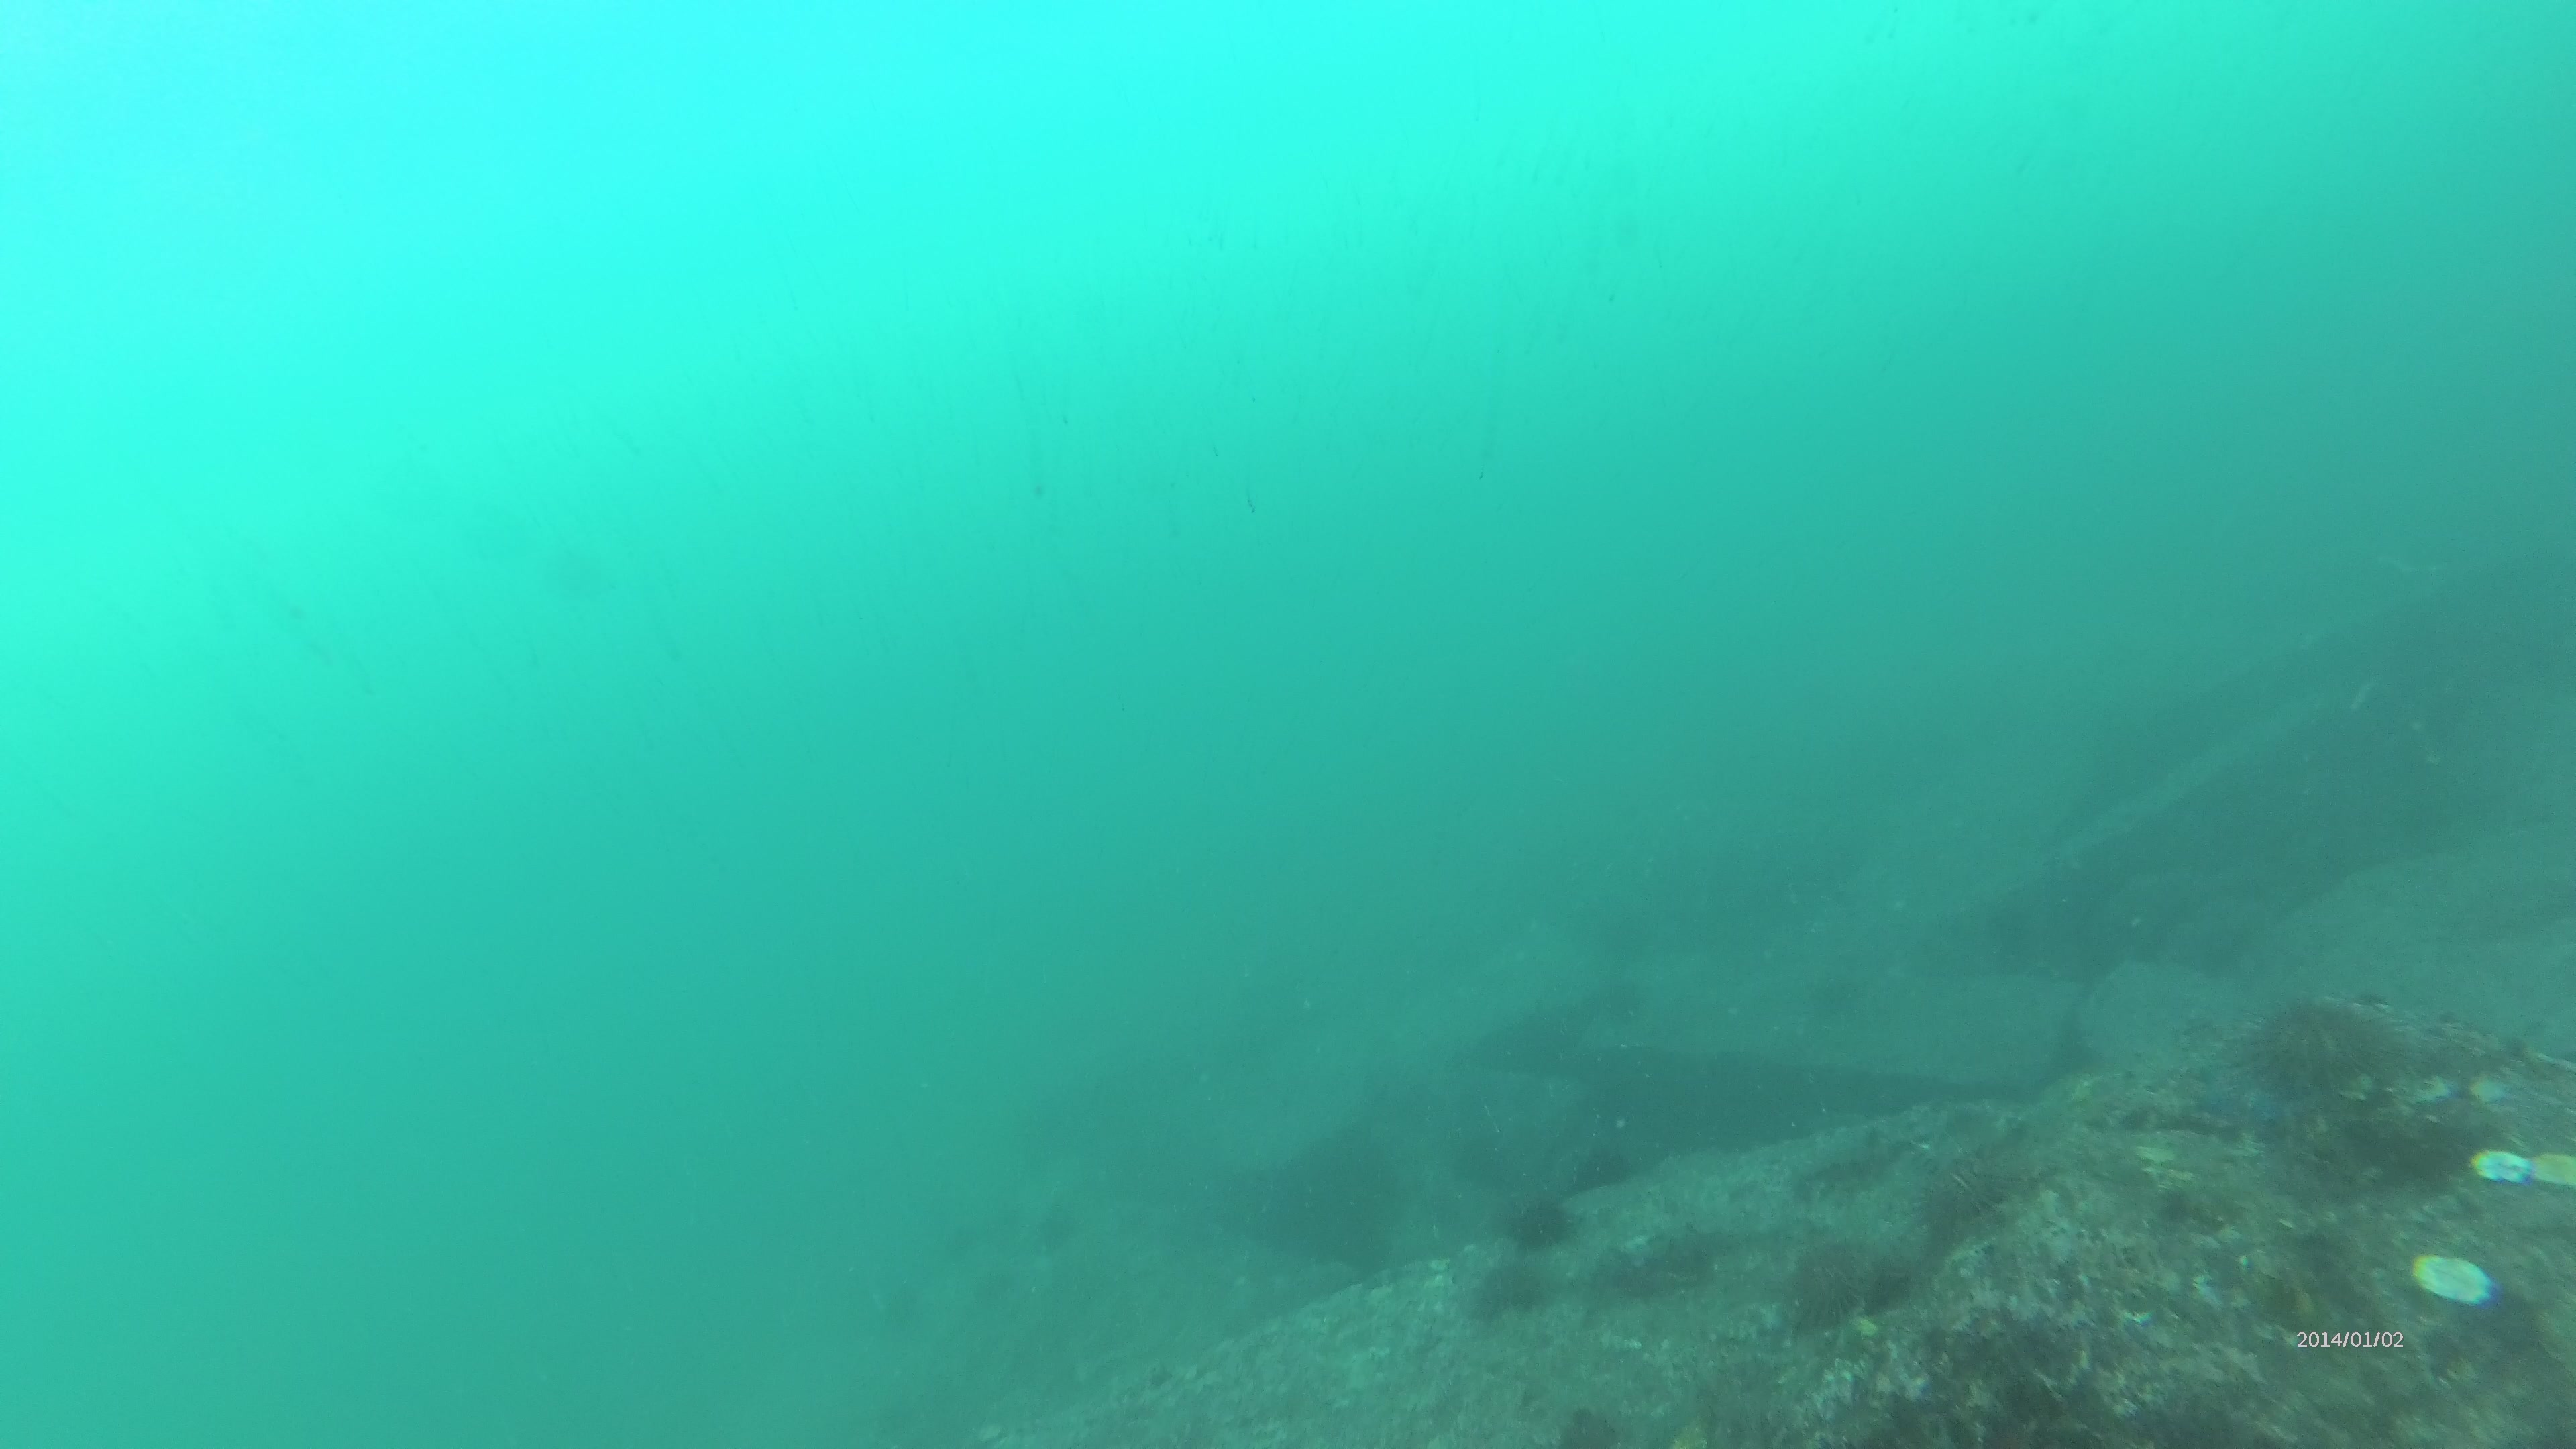echinus: (2254, 998, 2411, 1088), (1790, 1237, 1895, 1316), (1506, 1212, 1580, 1261), (1562, 1138, 1631, 1187)
